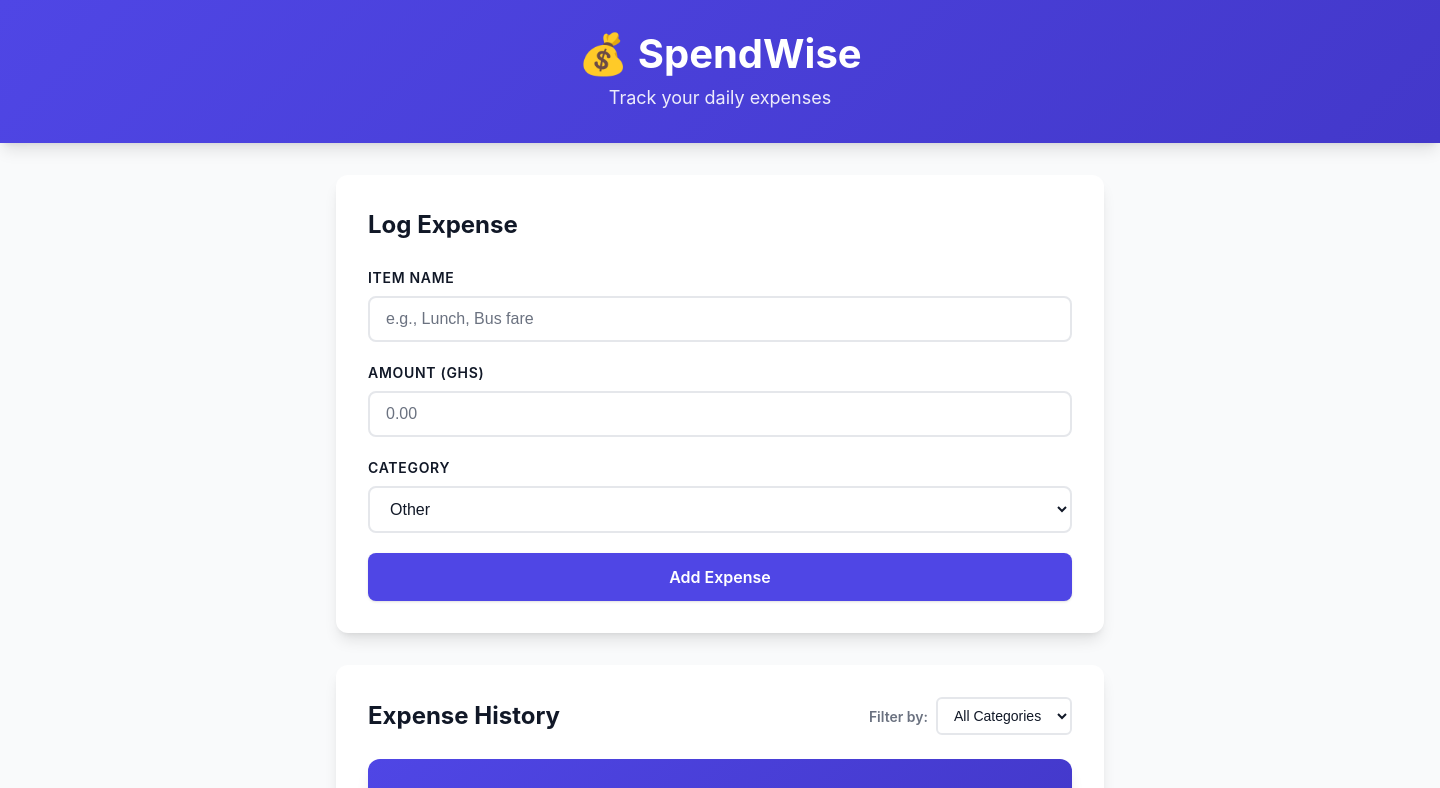
Test: User Story 5: Filter by Category - Frontend UI › AC #3: Total updates to show filtered sum › should show 0 total when filtered category has no expenses
The image size is (1440, 788).
Step 1. Select "Bills" in the dropdown labelled "Filter by:" → (1004, 716), box [936,697,1072,735]
(page scrolled)
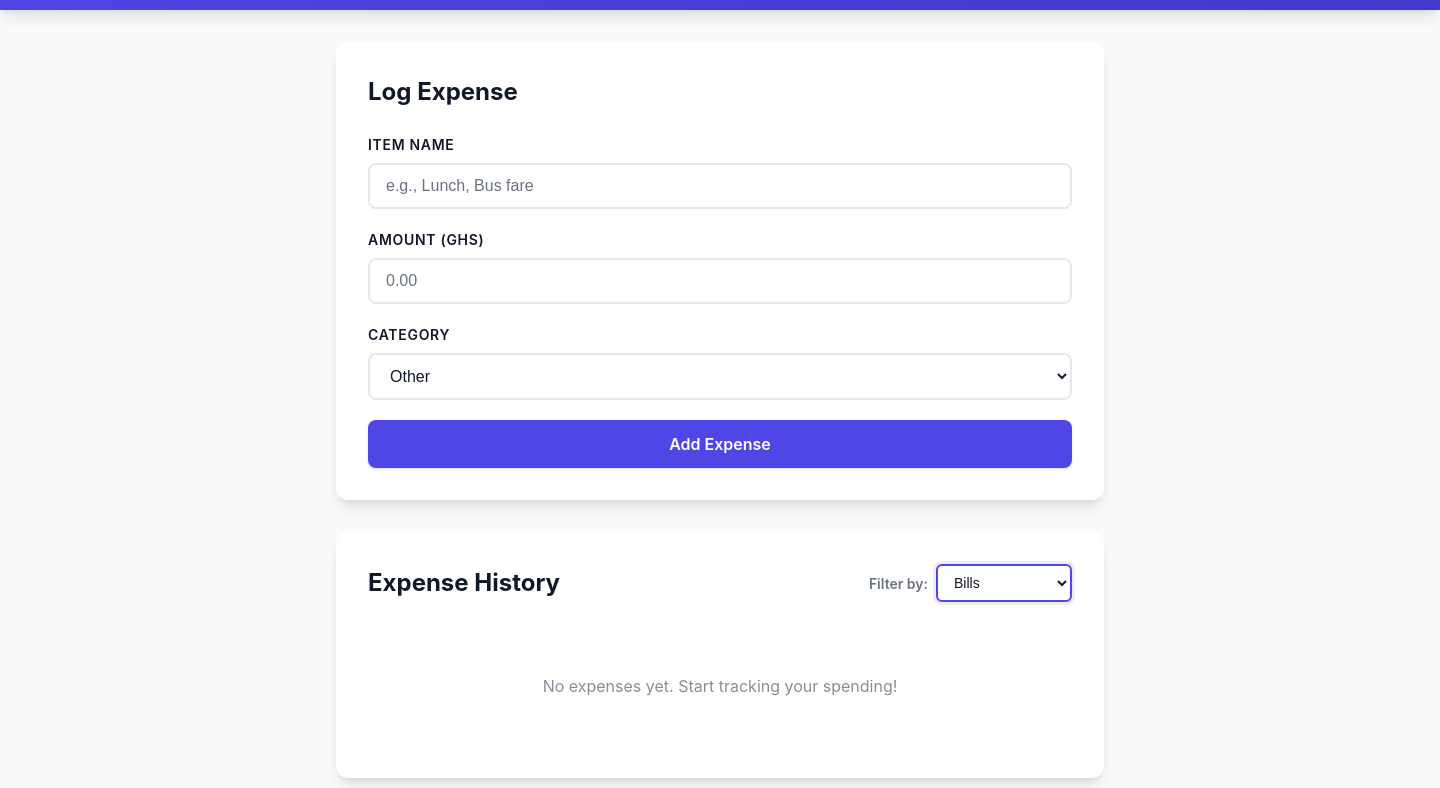
Now the text "No expenses yet. Start tracking your spending!" is shown, box [543,676,897,696]
